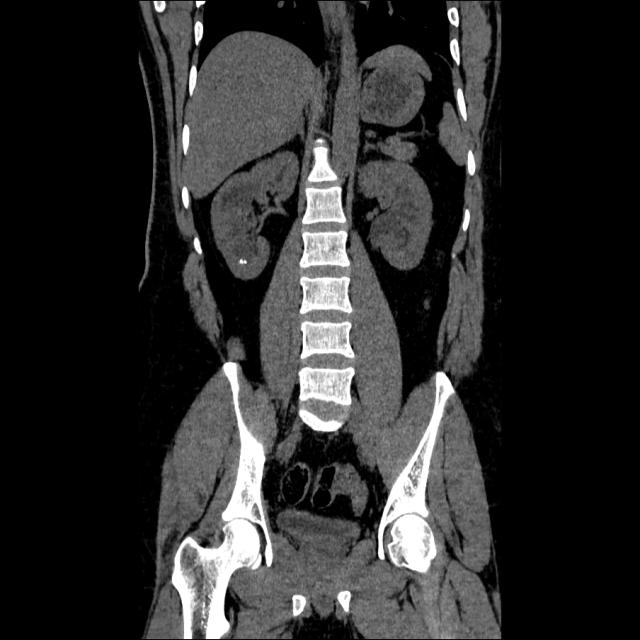kidney: (217, 154, 296, 277), (361, 158, 430, 266)
stone: (239, 258, 247, 265)
